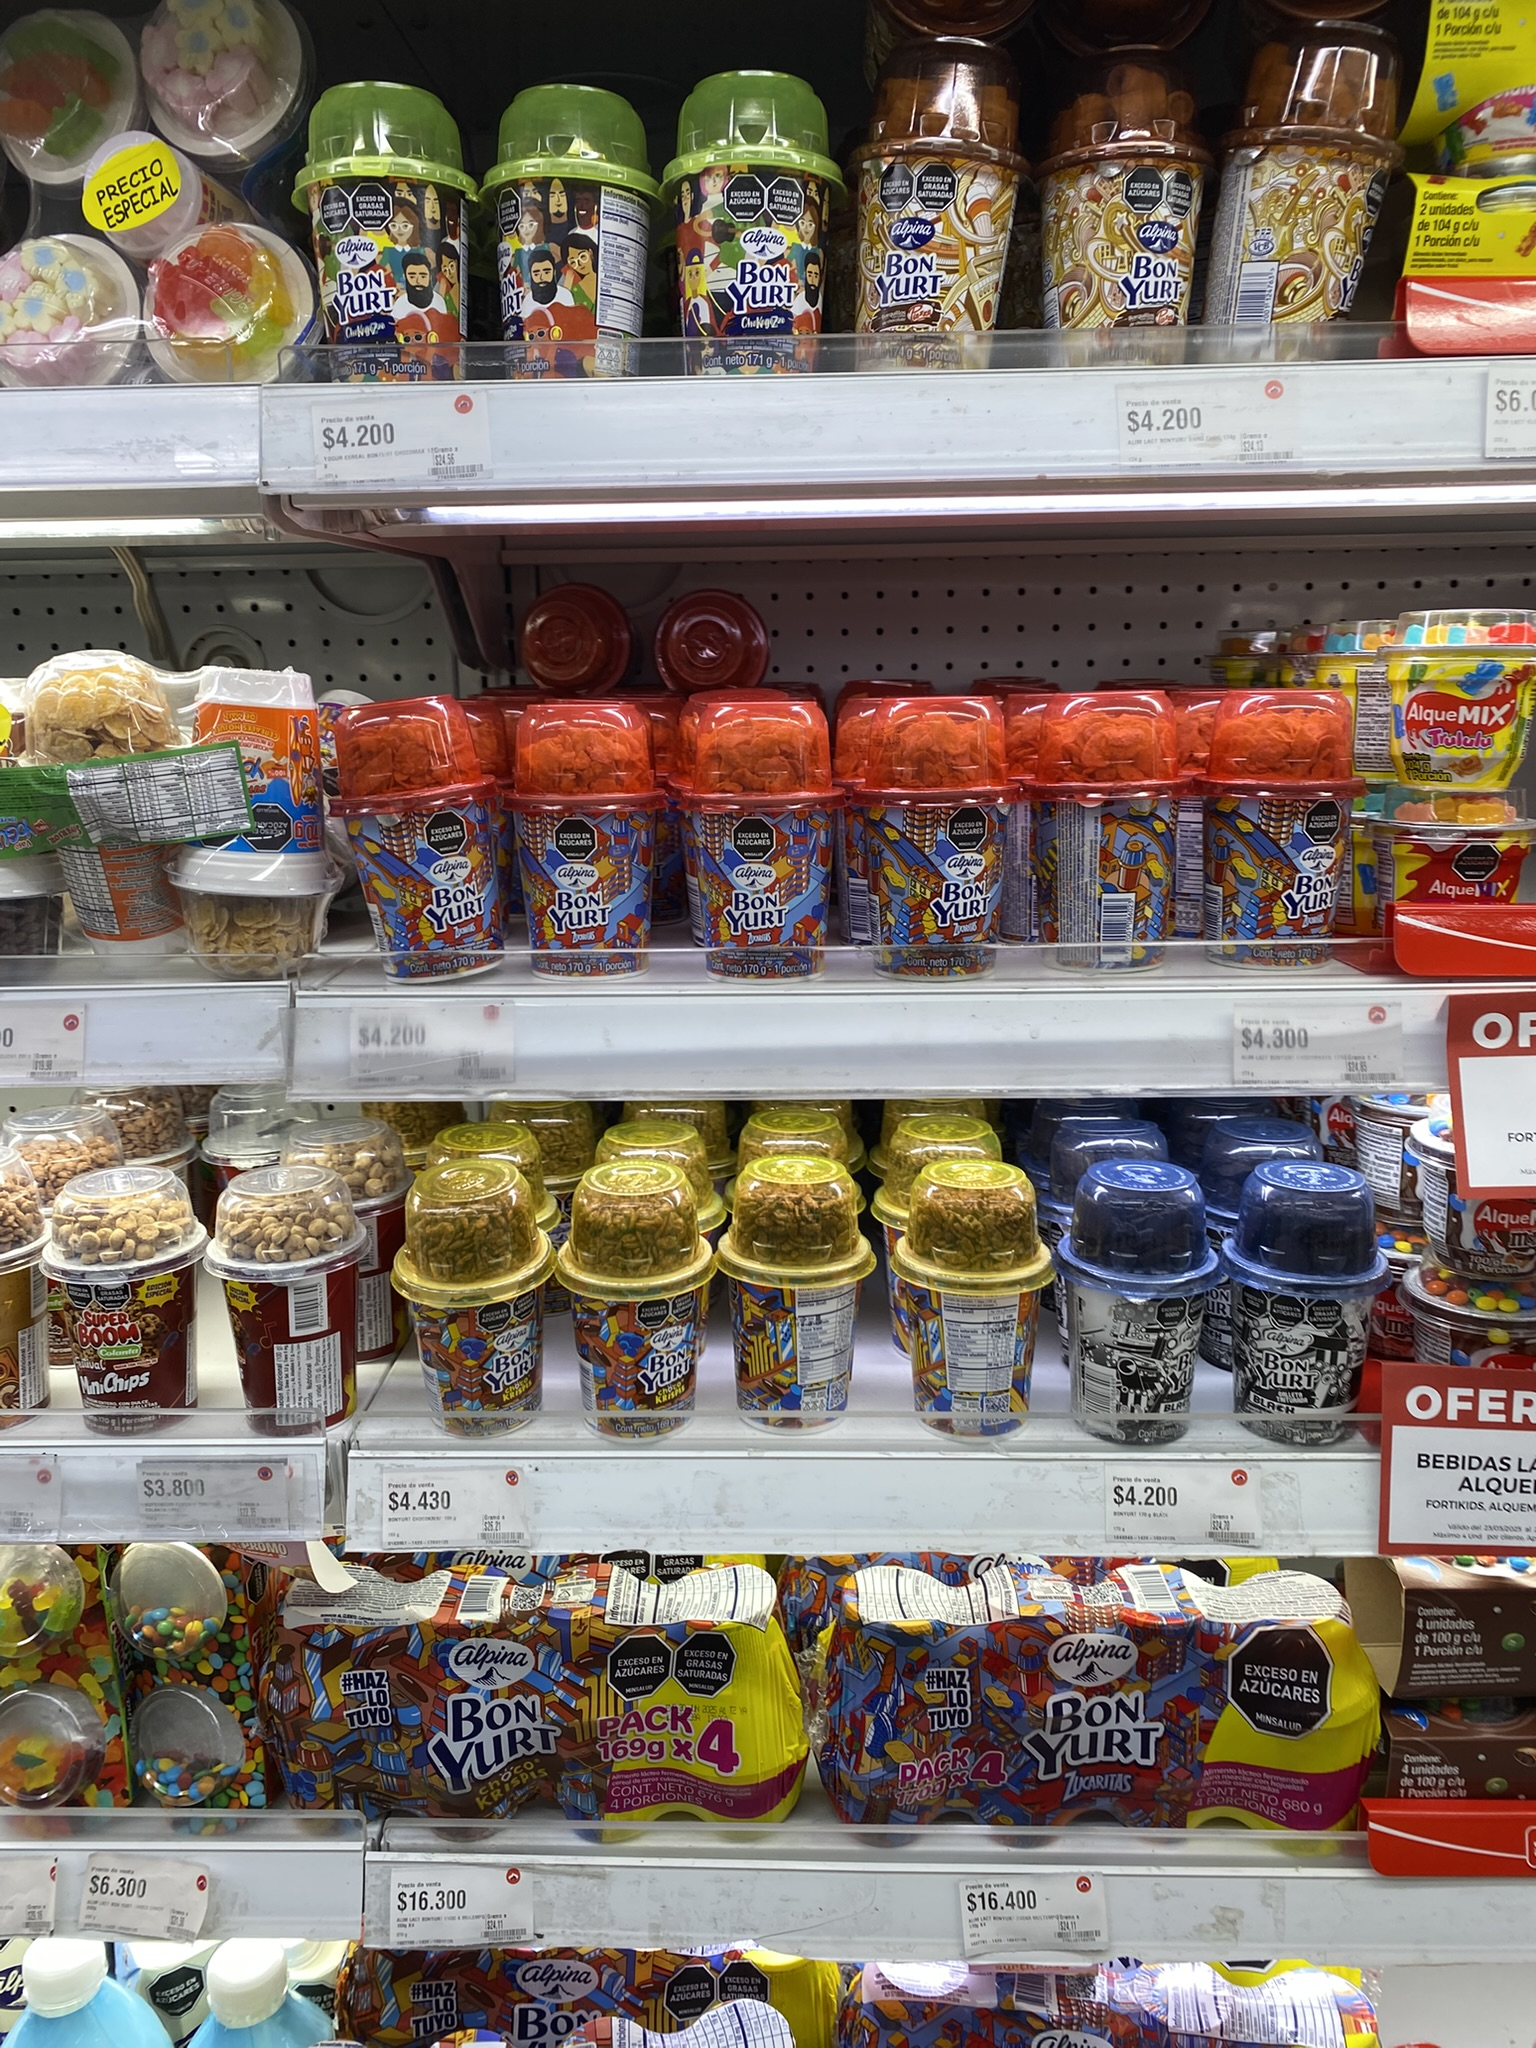BonYurt: (321, 692, 508, 980), (858, 681, 1028, 977), (511, 689, 673, 976), (1204, 684, 1367, 961), (1041, 679, 1200, 961), (689, 692, 829, 976)
